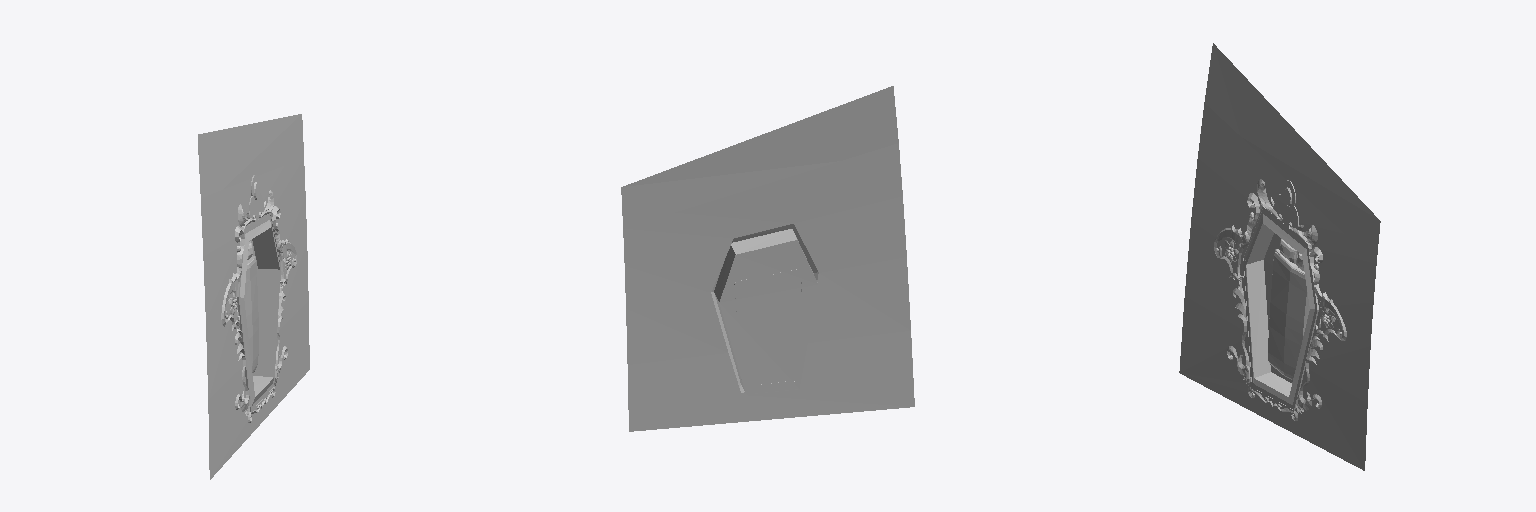
Rendered from ma_window_big_b_all.obj.
3 views of the same model, side by side, from view 1: azimuth 30°, elevation 25°; view 2: azimuth 150°, elevation 25°; view 3: azimuth 270°, elevation 25° (orthographic).
Parts seen in each view (by area): view 1: ma_window_big_b_all; view 2: ma_window_big_b_all; view 3: ma_window_big_b_all.
Boxes of the visible parts, <box> form: ma_window_big_b_all: <box>198,114,309,479</box>; ma_window_big_b_all: <box>621,86,914,431</box>; ma_window_big_b_all: <box>1179,43,1380,470</box>.
Size of the model in its own units: 623 by 1037 by 562.